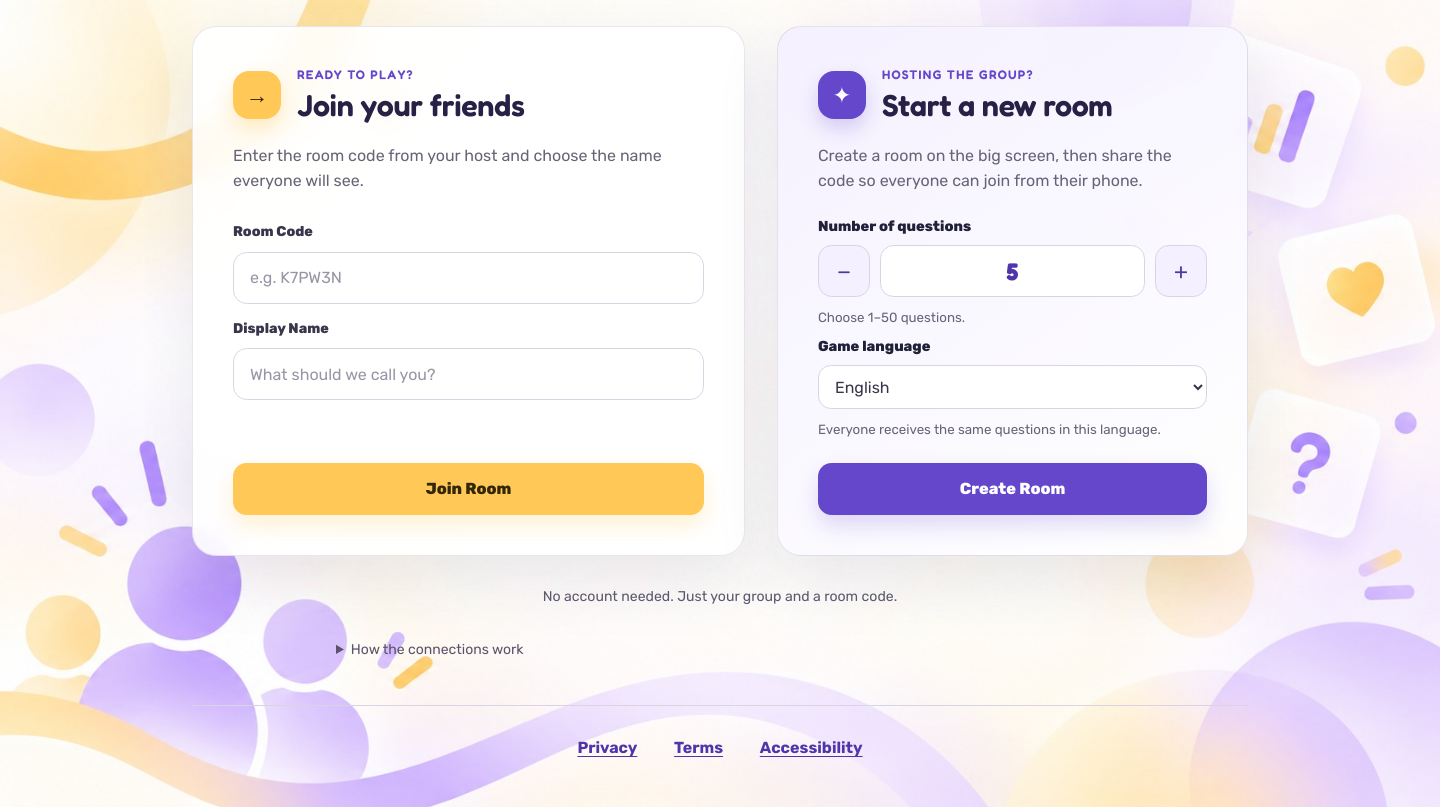
room entry screen › shows the server-owned Create Room error message
(page scrolled)
Click the button "Create Room".
click(1012, 489)  # box left=818, top=463, right=1207, bottom=515
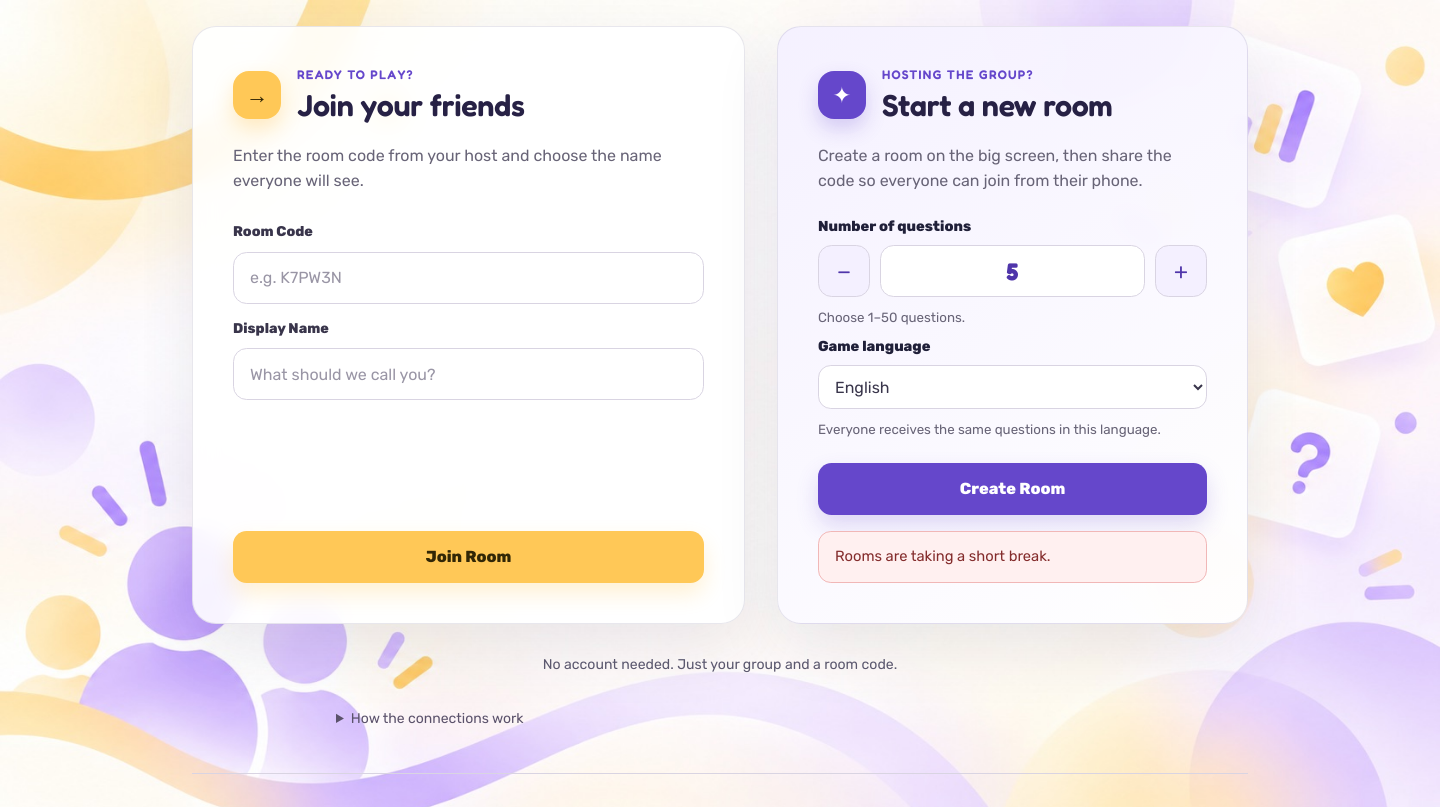
Check: the message reads "Rooms are taking a short break.", box left=835, top=547, right=1051, bottom=565
